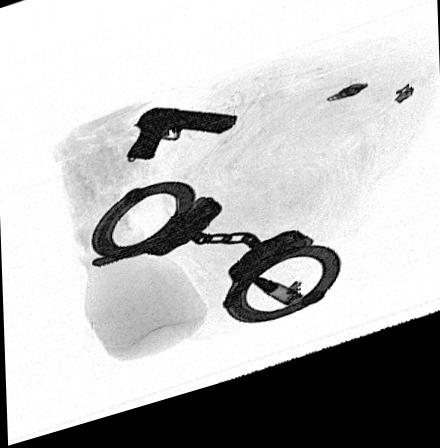Bullet: (244, 291, 304, 323)
Gun: (122, 116, 240, 168)
HandCuffs: (83, 190, 343, 338)
